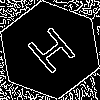H: (25, 25, 85, 83)
